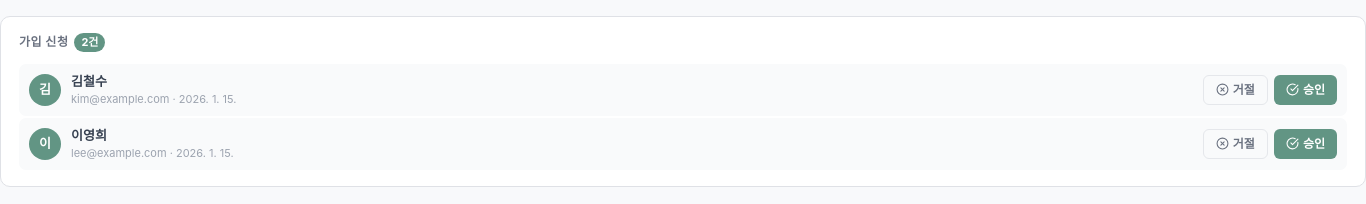
it: JoinRequestList — multiple requests › handles multiple requests and removes only the actioned one
Check: the text "김철수" is shown, box left=71, top=72, right=107, bottom=88
Check: the text "이영희" is shown, box left=71, top=126, right=107, bottom=142
Click the button titled "승인" in the row of "kim@example.com" at [1305, 90], box left=1274, top=74, right=1337, bottom=104
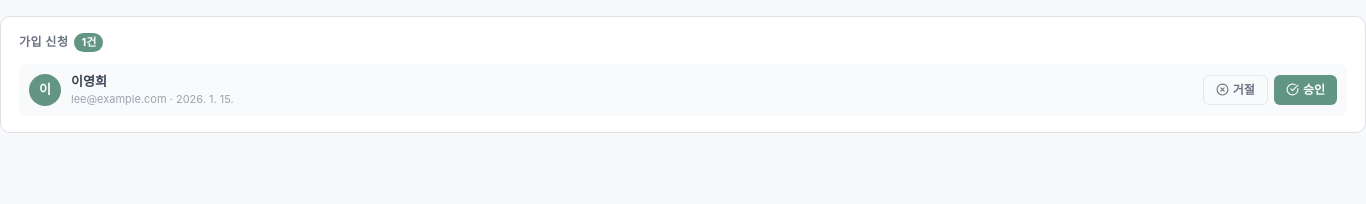
Check: the text "이영희" is shown, box left=71, top=72, right=107, bottom=88
Check: the text "김철수" is gone
